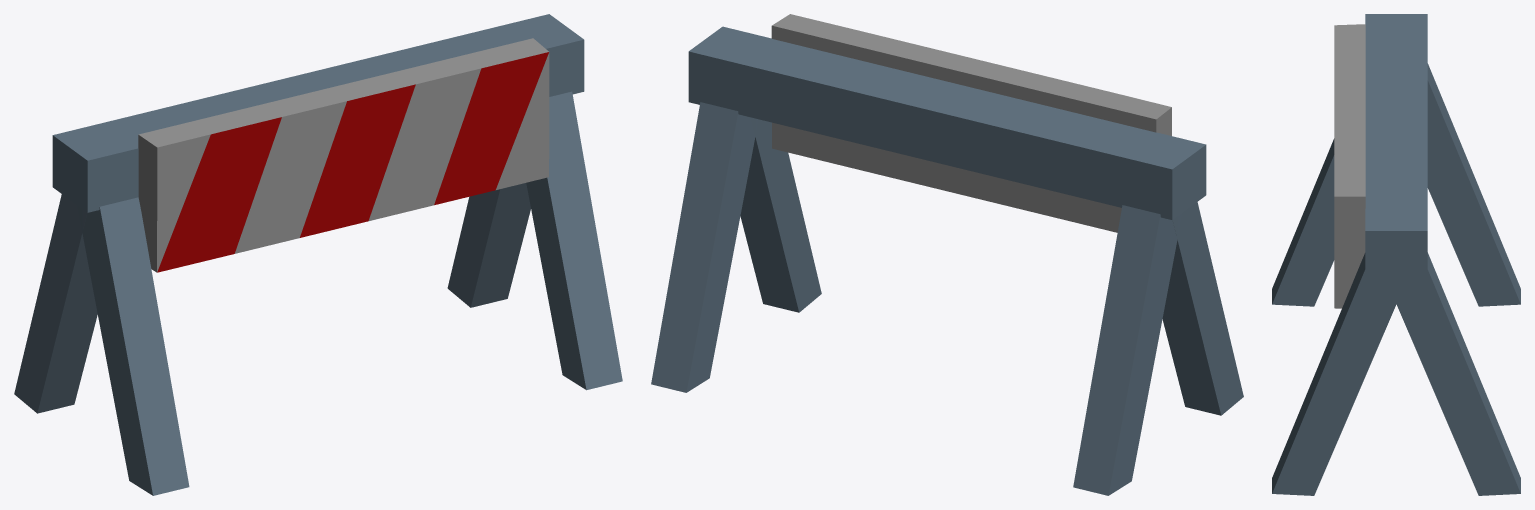
File: fence_03.fbx
The picture shows the model from 3 angles, left to right: view 1: azimuth 30°, elevation 25°; view 2: azimuth 150°, elevation 25°; view 3: azimuth 270°, elevation 25°; orthographic projection. The views are drawn at different scales.
Parts seen in each view (by area): view 1: fence_03; view 2: fence_03; view 3: fence_03.
Boxes of the visible parts, box(x1,y1,x2,y2) form: fence_03: box(14, 14, 622, 495); fence_03: box(651, 14, 1243, 495); fence_03: box(1272, 14, 1520, 495).
Size of the model in its own units: 171 by 104 by 82.77.
